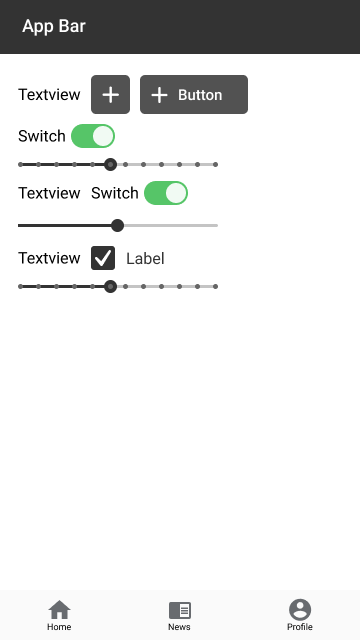buttonIcon: (90, 74, 130, 116)
buttonImage: (139, 75, 249, 115)
checkBox: (88, 243, 168, 271)
navigationButton: (1, 588, 360, 640)
slider: (13, 278, 223, 294), (14, 159, 218, 171)
slider1: (16, 218, 220, 233)
switch: (90, 179, 190, 207), (16, 123, 116, 150)
textView: (16, 83, 82, 104), (18, 182, 83, 202), (17, 248, 81, 267)
toolbar: (1, 1, 360, 53)
